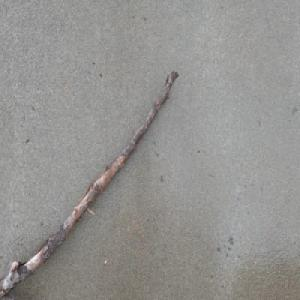Wood: (0, 69, 178, 300)
